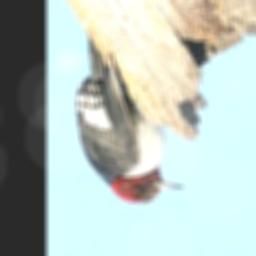Woodpecker: (74, 37, 185, 205)
